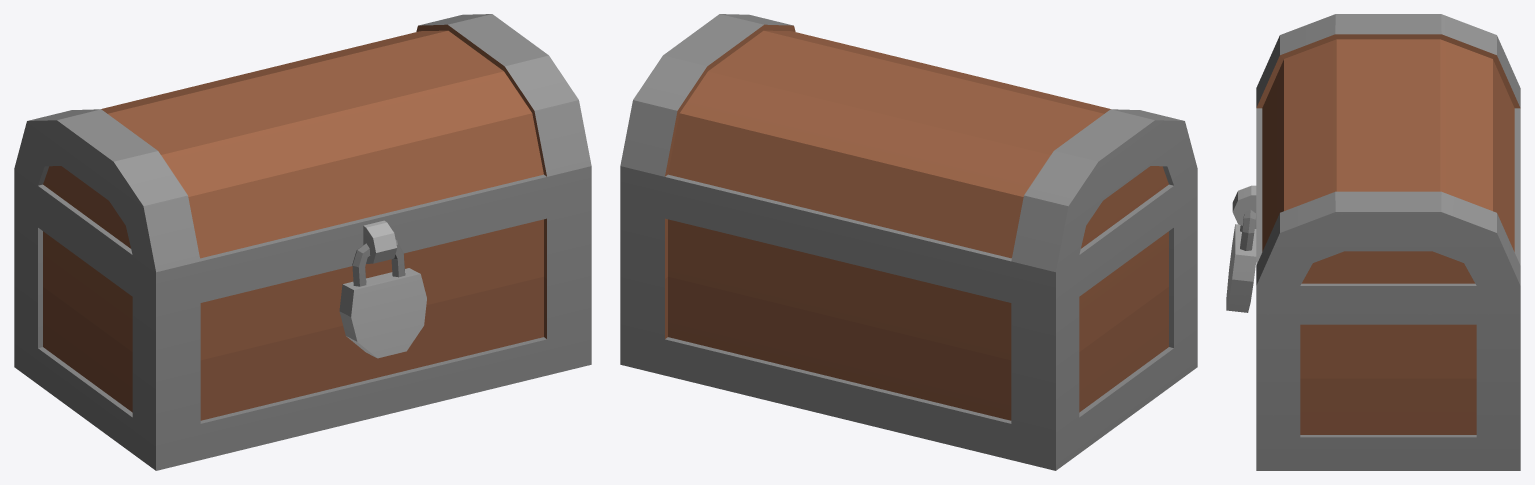
Rendered from chest.fbx.
3 renders of one model, left to right at view 1: azimuth 30°, elevation 25°; view 2: azimuth 150°, elevation 25°; view 3: azimuth 270°, elevation 25°, orthographic. The views are drawn at different scales.
Parts seen in each view (by area): view 1: chest; view 2: chest; view 3: chest.
Part boxes in pixels (box(x1,y1,x2,y2)): chest: box(14, 14, 591, 470); chest: box(620, 14, 1197, 470); chest: box(1226, 14, 1520, 470).
Bounding box in the file's own units: 153 × 93.41 × 96.1.
